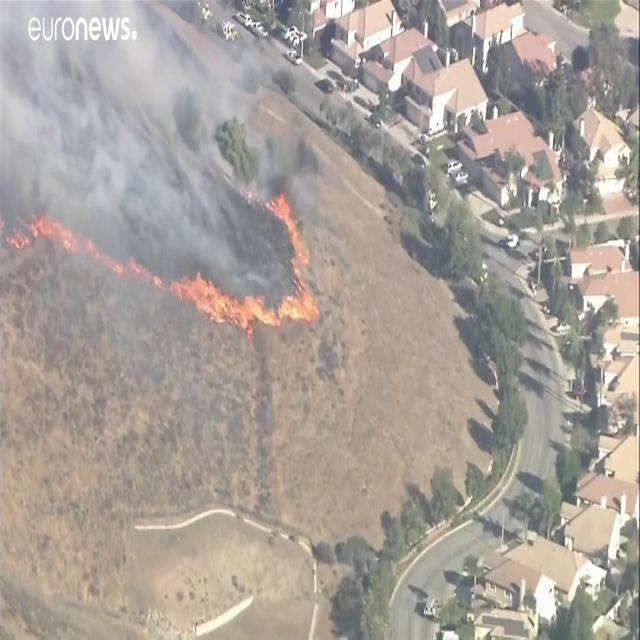Fire: (9, 214, 162, 292), (166, 274, 319, 332), (272, 186, 312, 272)
